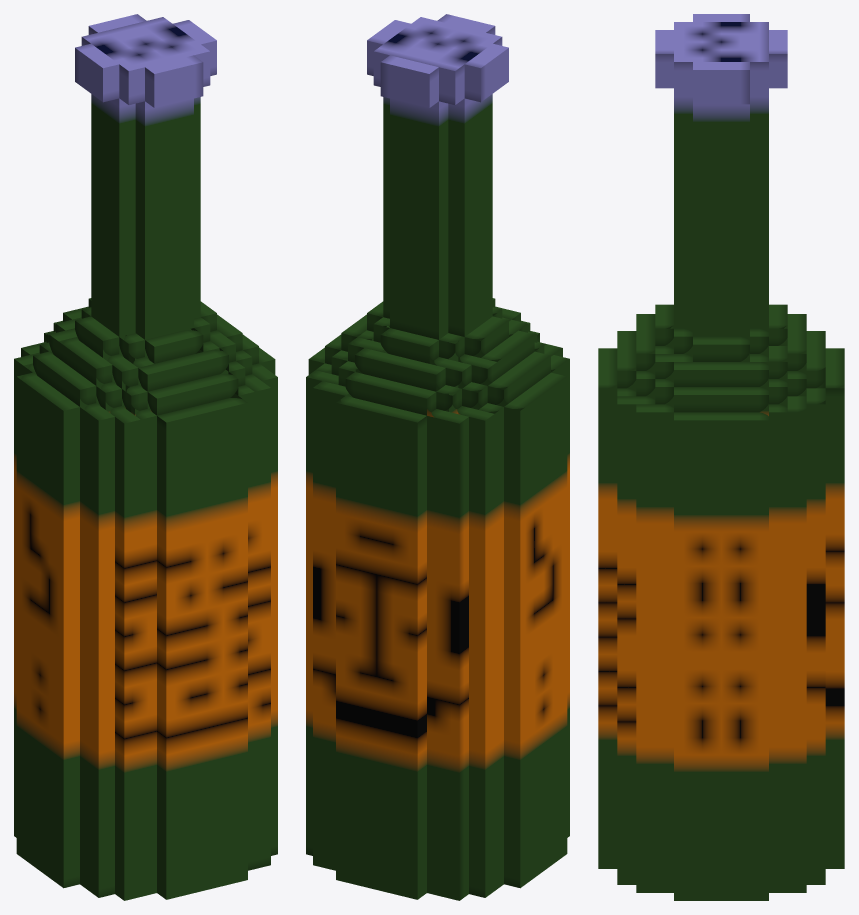
File: Piwo_monke.dae
The picture shows the model from 3 angles, left to right: view 1: azimuth 30°, elevation 25°; view 2: azimuth 150°, elevation 25°; view 3: azimuth 270°, elevation 25°; orthographic projection.
Parts seen in each view (by area): view 1: Content; view 2: Content; view 3: Content.
Boxes of the visible parts, <box> form: Content: <box>14,14,277,900</box>; Content: <box>306,14,569,900</box>; Content: <box>598,14,844,900</box>.
Size of the model in its own units: 13 by 47 by 13.
1 material, 1 textured.
